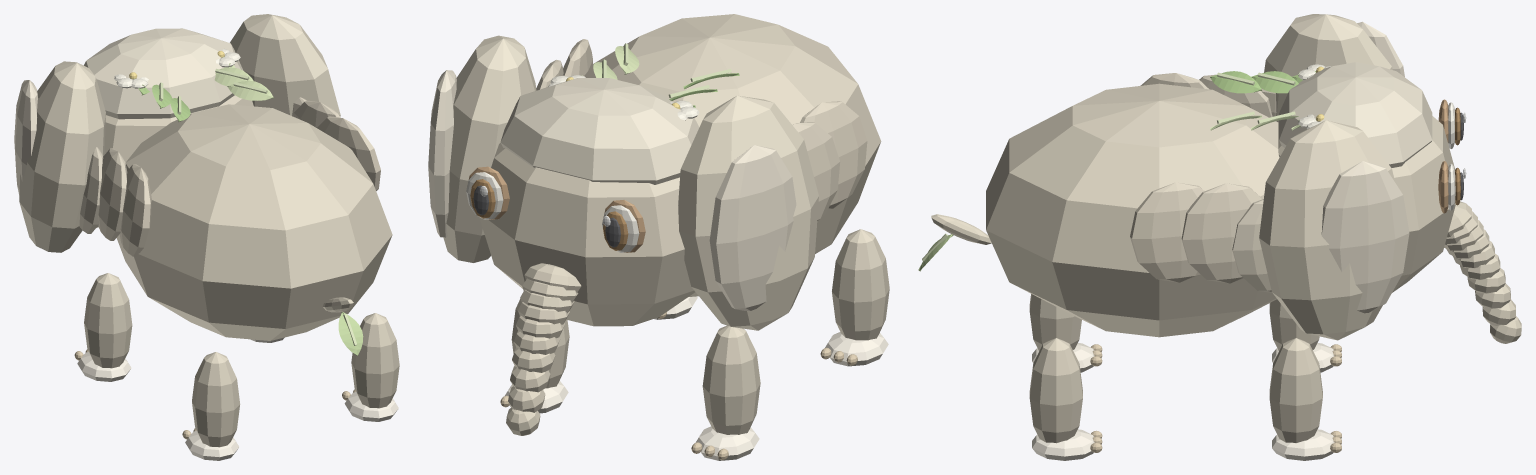
The model's file is RockElephant_A_S1.glb.
The picture shows the model from 3 angles, left to right: view 1: azimuth 30°, elevation 25°; view 2: azimuth 150°, elevation 25°; view 3: azimuth 270°, elevation 25°; orthographic projection. The views are drawn at different scales.
Parts seen in each view (by area): view 1: Body, LeftEar, Static_DBCDAA, RightEar, Static_C1B190, LeftFrontLeg, LeftBackLeg, RightBackLeg, Static_BDAE8E, Static_C4B593, LeftEar_E6D6B3, Static_B9AB8C (+8 smaller); view 2: Static_C4B593, Body, Static_DBCDAA, LeftEar, LeftEar_E6D6B3, RightEar, LeftBackLeg, LeftFrontLeg, Static_C1B190, RightEar_E6D6B3, Static_BDAE8E, LeftFrontPaw (+10 smaller); view 3: Body, RightEar, Static_C4B593, Static_DBCDAA, RightEar_E6D6B3, Static_BDAE8E, Static_C1B190, LeftEar, RightFrontLeg, RightBackLeg, Static_B9AB8C, LeftBackLeg (+9 smaller).
Part boxes in pixels (x1,y1,x2,y2): Body: (116, 104, 392, 340); LeftEar: (19, 61, 105, 252); Static_DBCDAA: (84, 28, 243, 119); RightEar: (230, 14, 340, 116); Static_C1B190: (119, 116, 380, 256); LeftFrontLeg: (84, 273, 132, 368); LeftBackLeg: (192, 352, 240, 447); RightBackLeg: (351, 313, 399, 408); Static_BDAE8E: (98, 100, 340, 240); Static_C4B593: (96, 95, 253, 227); LeftEar_E6D6B3: (14, 80, 38, 195); Static_B9AB8C: (79, 97, 306, 233); Static_C4B593: (479, 143, 694, 435); Body: (584, 14, 881, 296); Static_DBCDAA: (500, 78, 699, 184); LeftEar: (678, 95, 818, 330); LeftEar_E6D6B3: (709, 145, 796, 310); RightEar: (443, 35, 536, 262); LeftBackLeg: (832, 229, 889, 340); LeftFrontLeg: (702, 325, 760, 434); Static_C1B190: (563, 39, 867, 208); RightEar_E6D6B3: (428, 70, 456, 237); Static_BDAE8E: (536, 59, 840, 220); LeftFrontPaw: (696, 426, 759, 460); Body: (986, 83, 1279, 337); RightEar: (1259, 120, 1395, 340); Static_C4B593: (1278, 116, 1521, 343); Static_DBCDAA: (1279, 62, 1432, 167); RightEar_E6D6B3: (1321, 161, 1409, 313); Static_BDAE8E: (1181, 74, 1272, 283); Static_C1B190: (1130, 73, 1208, 282); LeftEar: (1264, 14, 1392, 122); RightFrontLeg: (1269, 338, 1322, 442); RightBackLeg: (1029, 338, 1082, 443); Static_B9AB8C: (1232, 88, 1276, 292); LeftBackLeg: (1029, 294, 1081, 350).
Size of the model in its own units: 9.07 by 8.98 by 14.21.
